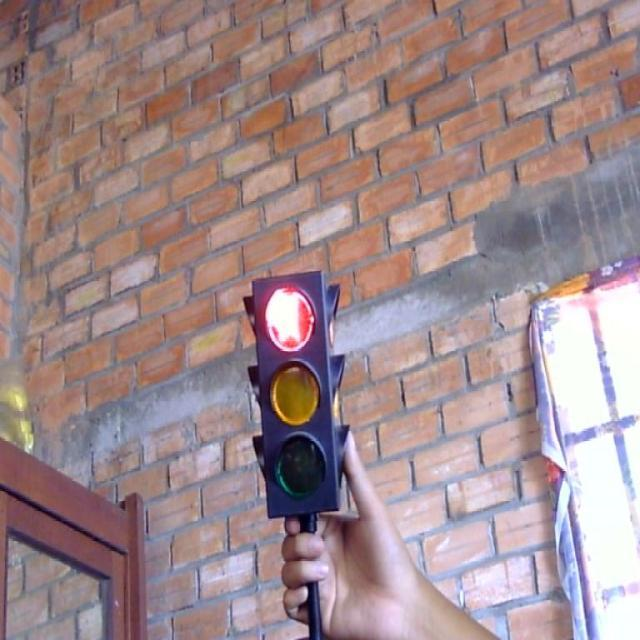red light: (260, 284, 322, 358)
